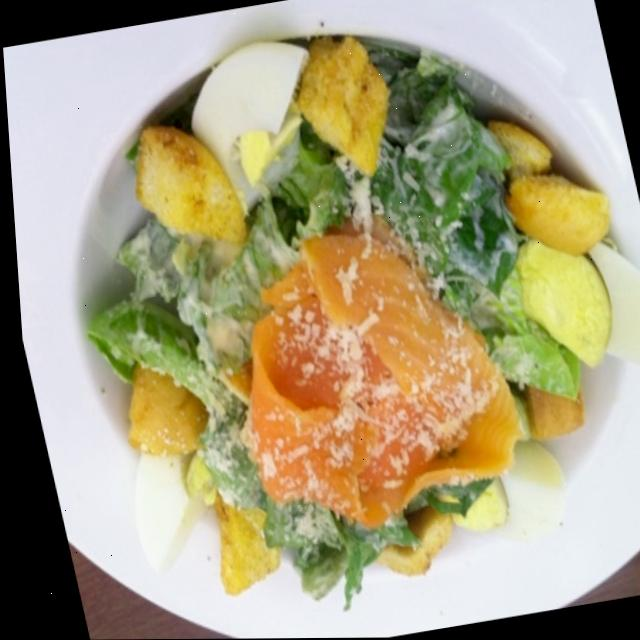蔬菜料理: (16, 0, 640, 640)
